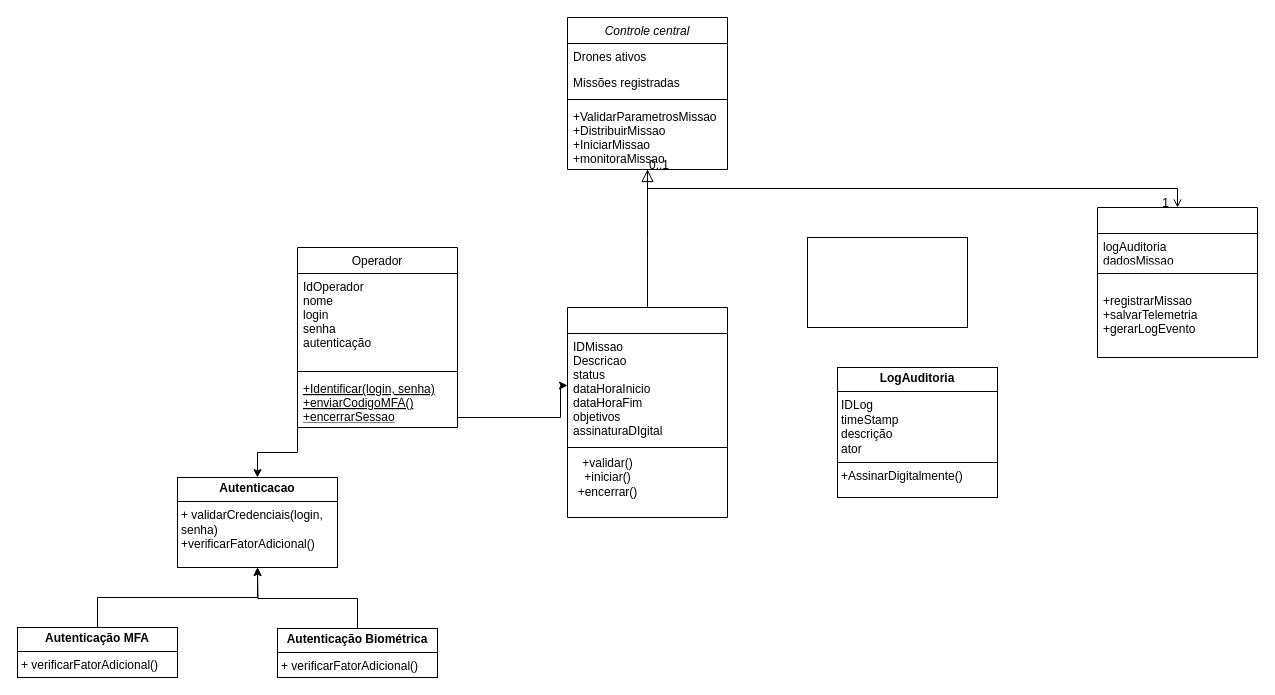
Image size: 1275x695. Some labels were removed from this diagram. Here are the shapes that lost their labels. From the top down, the box of each, then its label:
(806, 236, 968, 328): CriptoServiço + criptografar(dado) + assinar(dado) +verificarIntegridade(dado)
(1096, 206, 1258, 358): Servidor de dados
(566, 306, 728, 518): Missão
